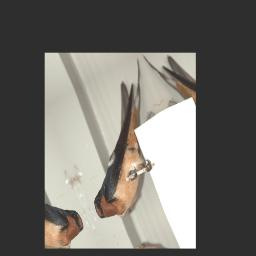Swallow: (53, 58, 184, 226)
